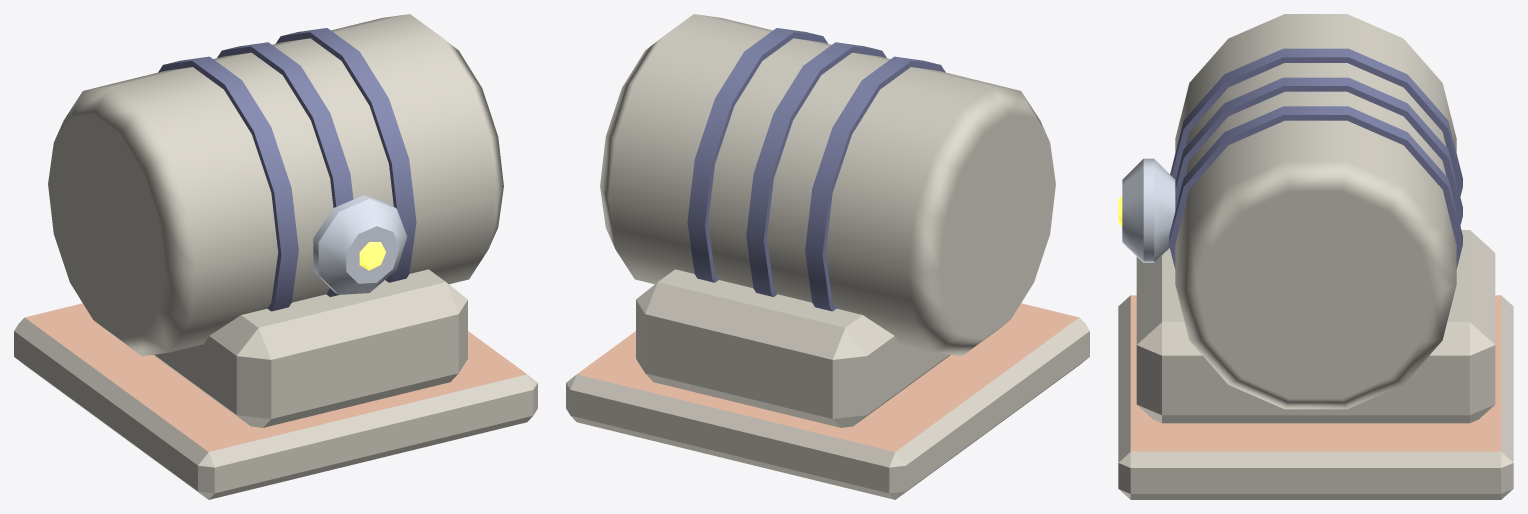
Rendered from R4X_DrivePower_LOD1.fbx.
3 renders of one model, left to right at view 1: azimuth 30°, elevation 25°; view 2: azimuth 150°, elevation 25°; view 3: azimuth 270°, elevation 25°, orthographic.
Parts seen in each view (by area): view 1: R4X_DrivePower_LOD1; view 2: R4X_DrivePower_LOD1; view 3: R4X_DrivePower_LOD1.
Part boxes in pixels (bbox=[...]): R4X_DrivePower_LOD1: bbox=[14, 14, 537, 499]; R4X_DrivePower_LOD1: bbox=[566, 14, 1089, 499]; R4X_DrivePower_LOD1: bbox=[1118, 14, 1513, 499].
Size of the model in its own units: 0.52 by 0.4936 by 0.52.
